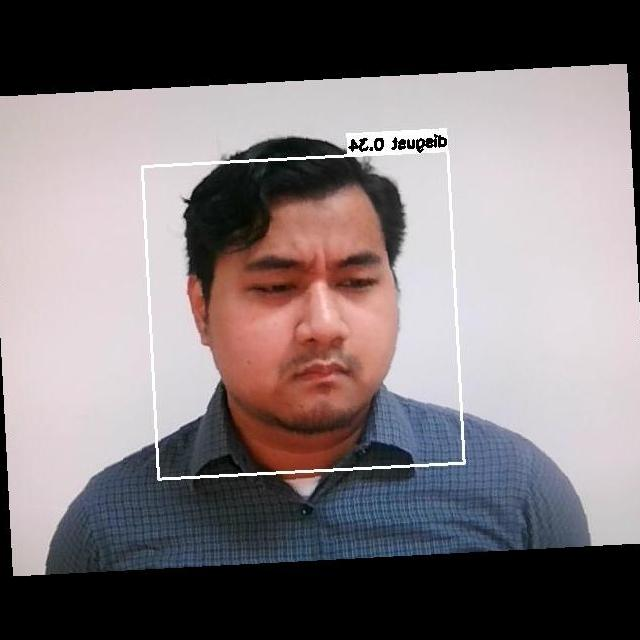Angry: (201, 221, 409, 408)
